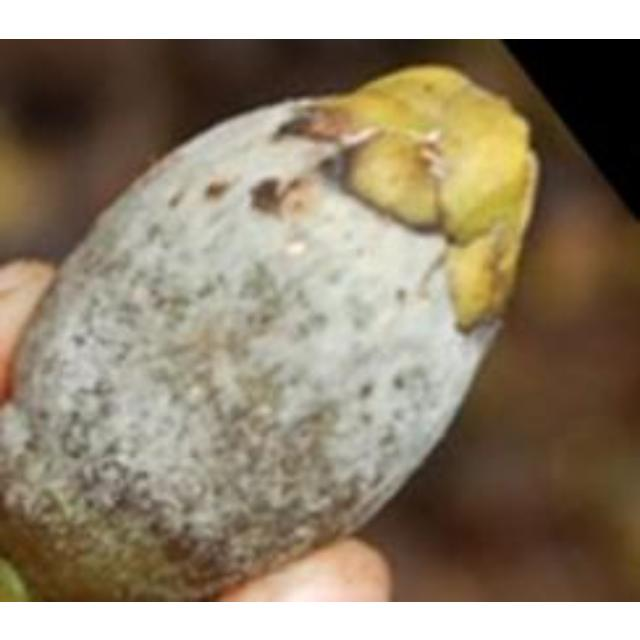damaged: (0, 62, 543, 599)
